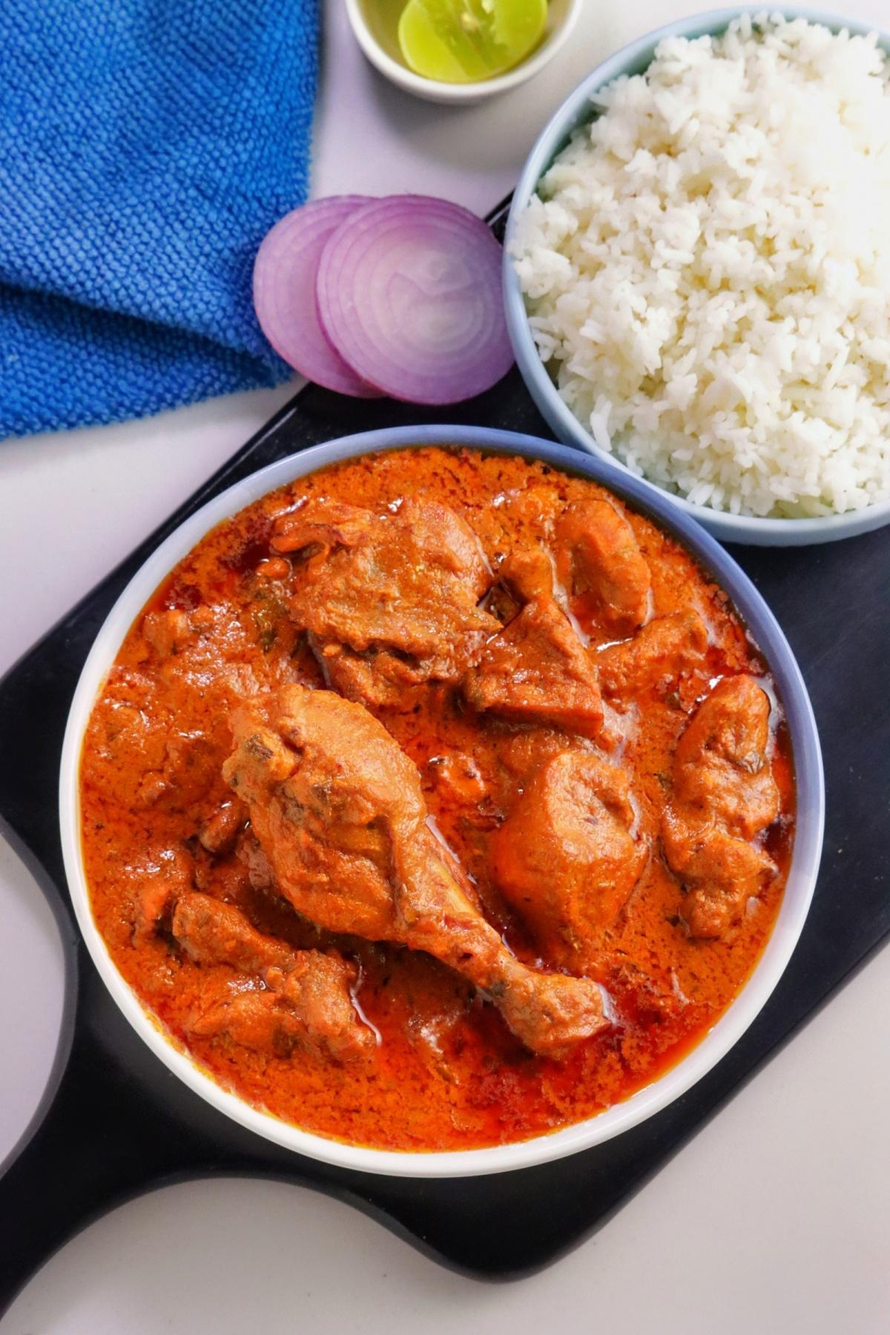chicken: (178, 562, 749, 1149)
